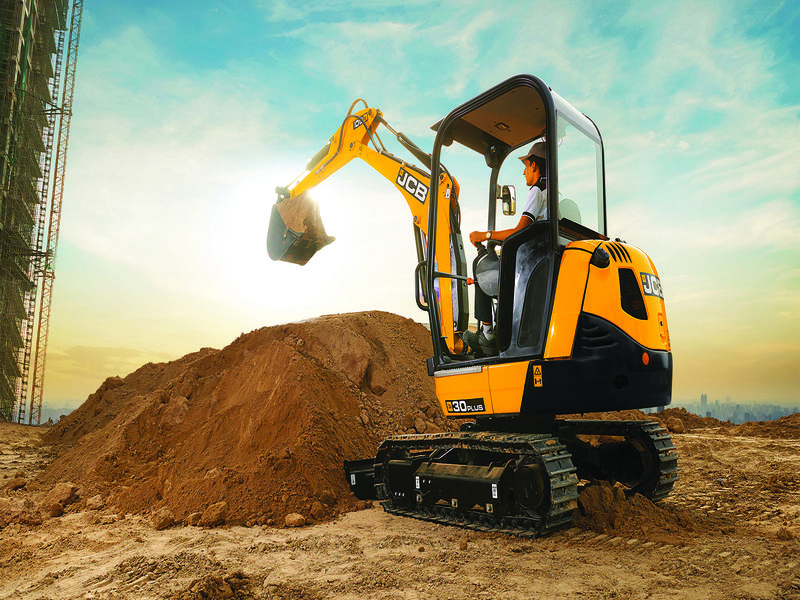shovel: (256, 69, 687, 541)
